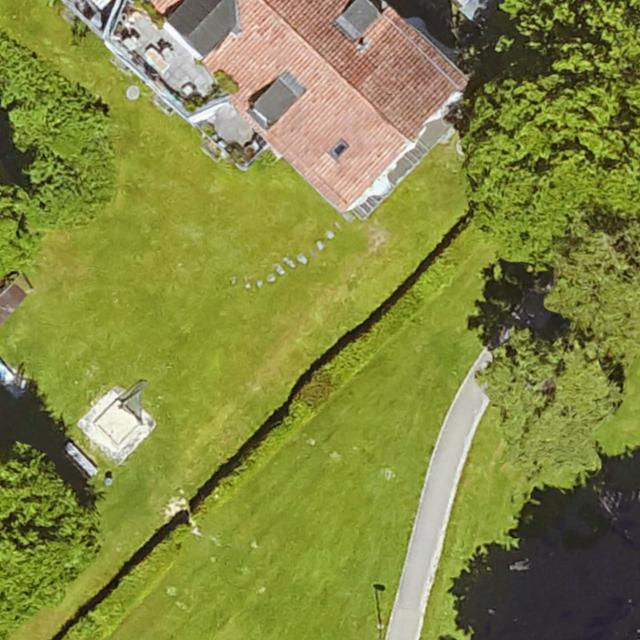tree: (466, 5, 639, 220), (487, 327, 621, 461), (0, 447, 96, 628), (551, 222, 640, 344), (0, 176, 36, 286)
